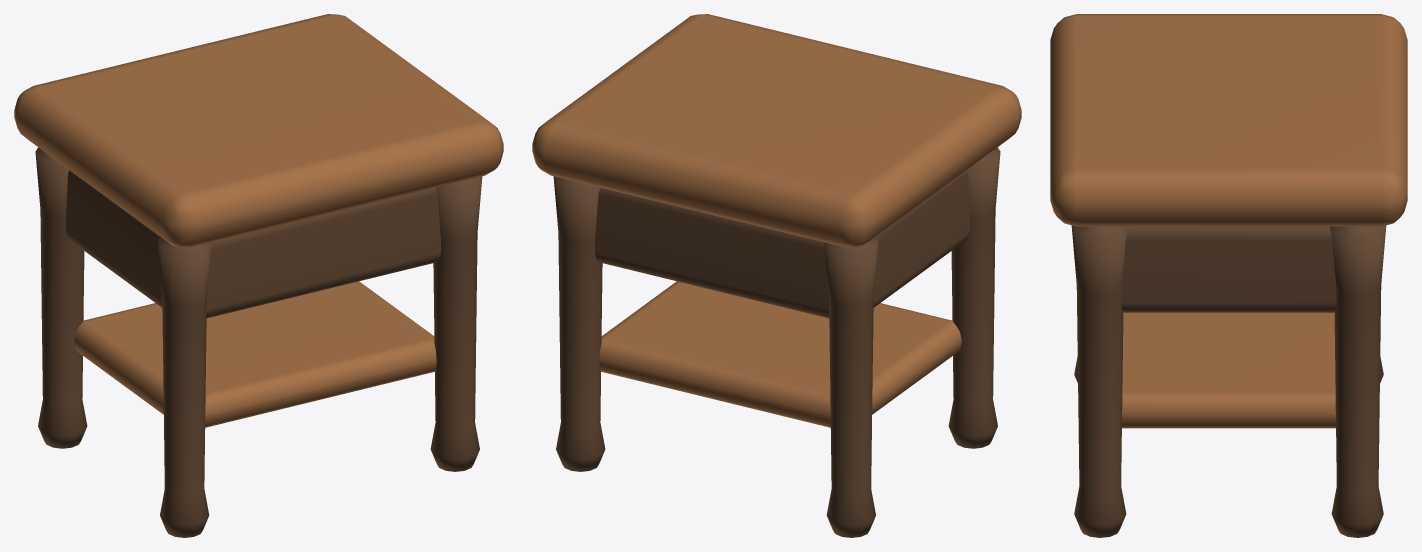
File: nightstand.glb
3 renders of one model, left to right at view 1: azimuth 30°, elevation 25°; view 2: azimuth 150°, elevation 25°; view 3: azimuth 270°, elevation 25°, orthographic. The views are drawn at different scales.
Visible parts, largest first — view 1: House_nightstand; view 2: House_nightstand; view 3: House_nightstand.
Boxes of the visible parts, x1,y1,x2,y2 form: House_nightstand: [14, 14, 503, 537]; House_nightstand: [532, 14, 1021, 537]; House_nightstand: [1050, 14, 1407, 537].
Size of the model in its own units: 0.6 by 0.59 by 0.52.
